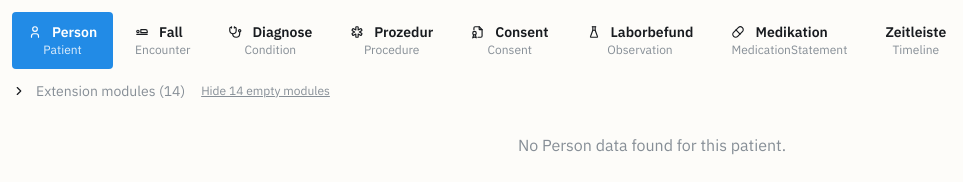
MiiModuleTabs hide-empty toggle (MII-EXT-14, Plan 34-05) › clicking toggle flips state; button re-renders as "Show N"; localStorage reflects
Click the button "Extension modules (14)".
click(99, 91)  # box left=12, top=81, right=185, bottom=101
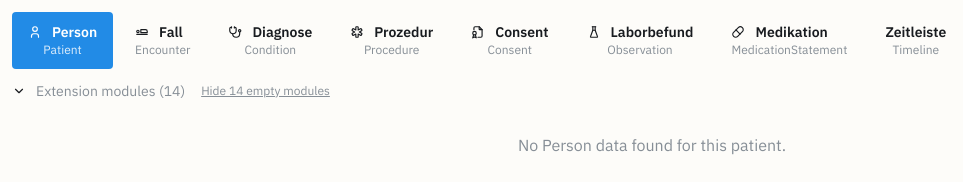
Click the button "Hide 14 empty modules".
click(266, 91)  # box left=201, top=83, right=330, bottom=100
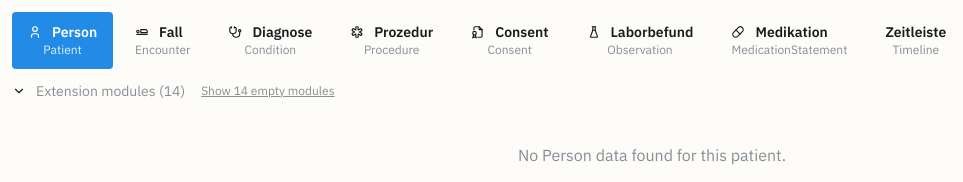
Expected: the text "Show 14 empty modules" is shown, left=201, top=83, right=334, bottom=100
